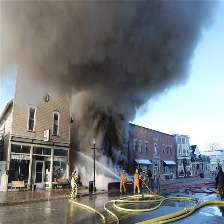smoke: (1, 1, 220, 176)
